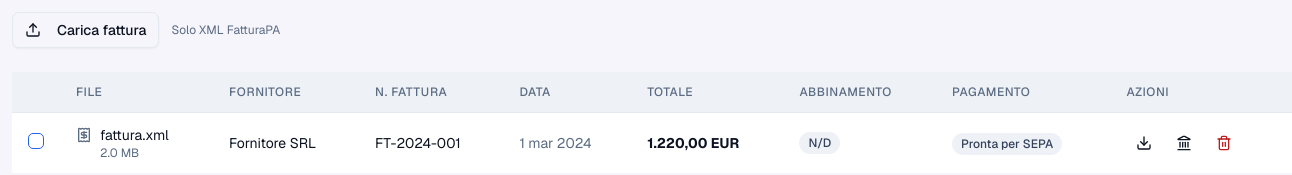
Test: InvoicesTab › deselects an invoice and hides the generate button again
Expected: the text "Pronta per SEPA" is shown, [952,133,1062,155]
Click the checkbox named "seleziona fattura" at coordinates (36, 141), box [28,133,44,149]
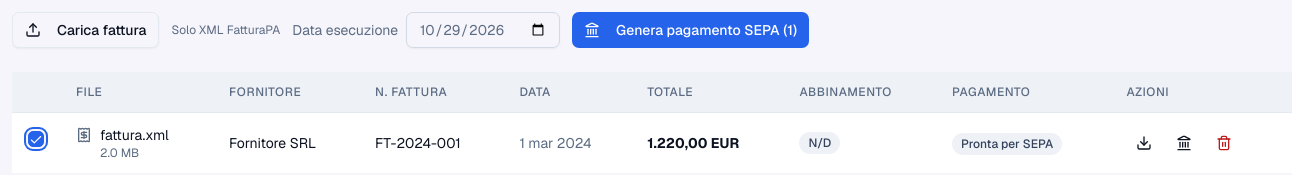
Expected: the button "Genera pagamento SEPA (1)" is shown, [572,12,809,48]
Click the checkbox named "seleziona fattura" at coordinates (36, 139), box [28,131,44,147]
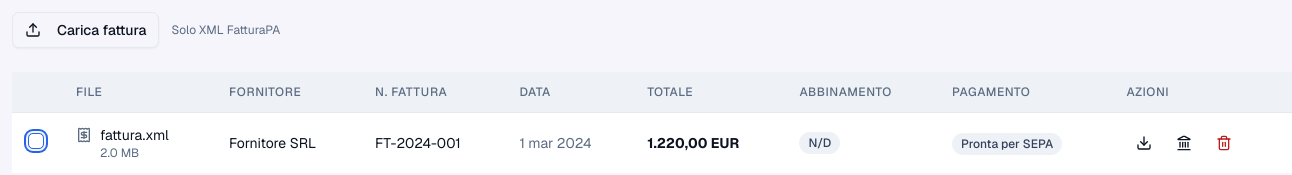
Expected: the button "Genera pagamento SEPA" is gone
